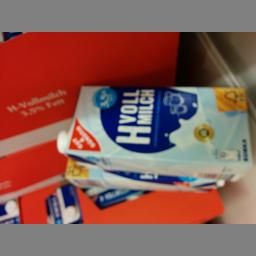milk: (49, 84, 255, 186)
